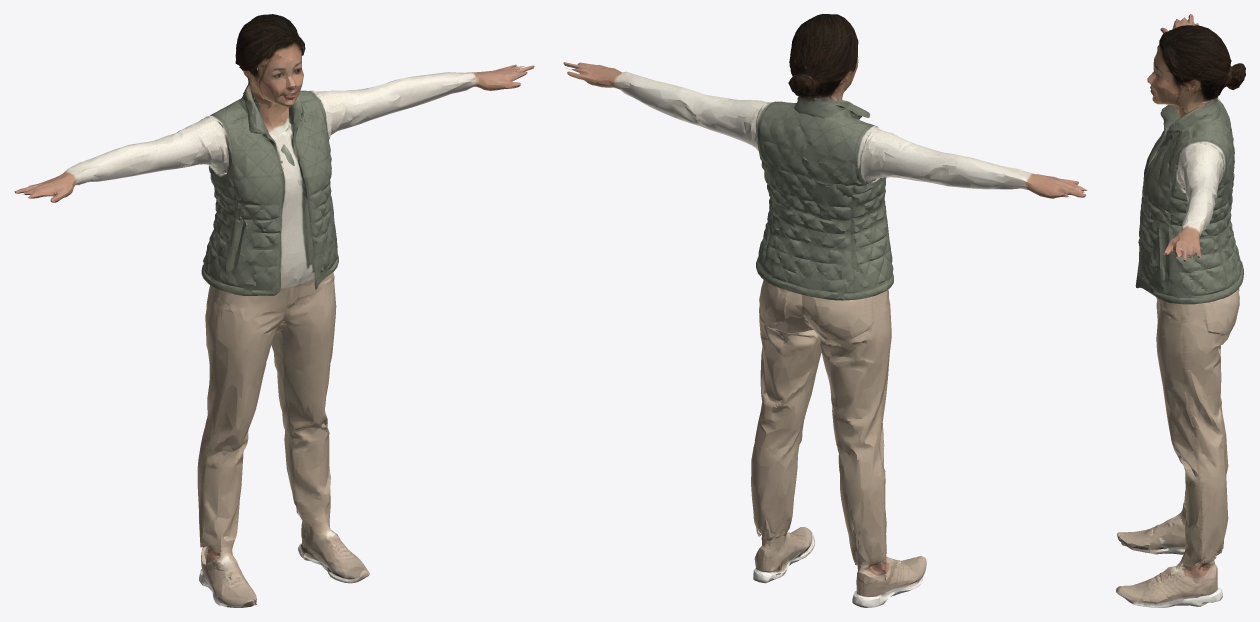
Rendered from character_n05_optimized.glb.
3 renders of one model, left to right at view 1: azimuth 30°, elevation 25°; view 2: azimuth 150°, elevation 25°; view 3: azimuth 270°, elevation 25°, orthographic. The views are drawn at different scales.
Parts seen in each view (by area): view 1: output_unwrapped; view 2: output_unwrapped; view 3: output_unwrapped.
Boxes of the visible parts, bbox=[...] form: output_unwrapped: bbox=[14, 14, 534, 607]; output_unwrapped: bbox=[563, 14, 1087, 607]; output_unwrapped: bbox=[1116, 14, 1245, 607].
Size of the model in its own units: 1.84 by 1.9 by 0.4075.
Materials: 1 (1 with a texture image).
